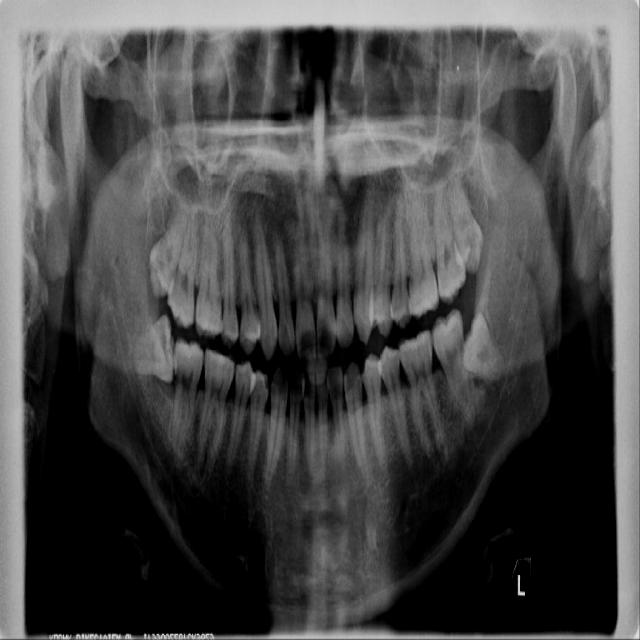impacted tooth: (447, 169, 482, 276), (150, 204, 187, 297), (463, 311, 506, 381), (129, 316, 172, 381)
